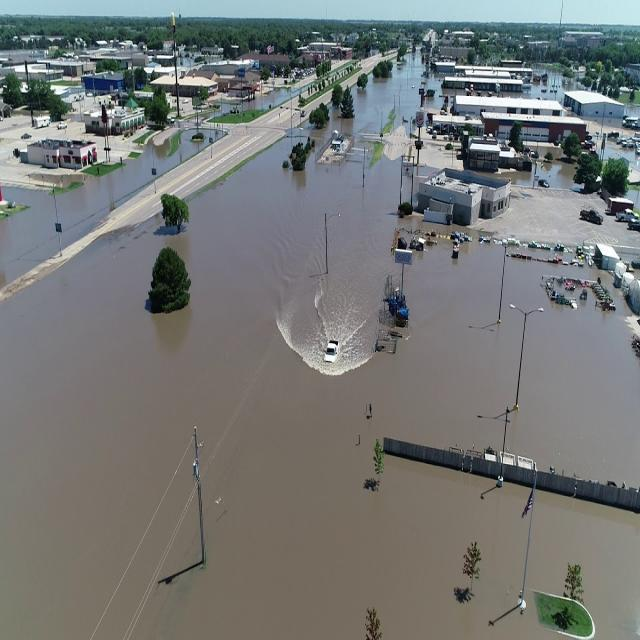flood: (0, 56, 640, 640), (0, 130, 220, 286), (469, 186, 640, 246)
house: (417, 172, 502, 226), (480, 111, 587, 142), (451, 92, 564, 120), (21, 134, 98, 174), (564, 86, 628, 124), (440, 75, 522, 94), (98, 106, 148, 136), (154, 74, 216, 98), (468, 136, 502, 172), (84, 74, 121, 94)
